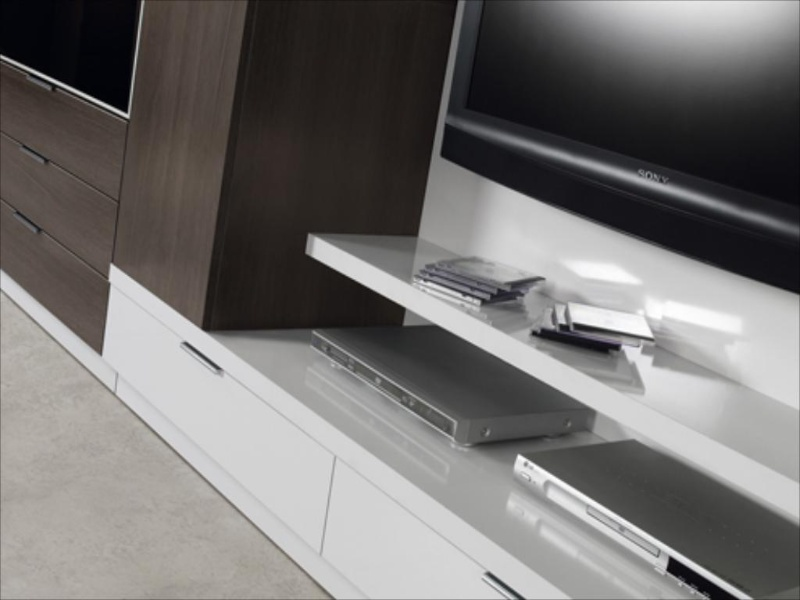tv: (433, 3, 800, 286)
